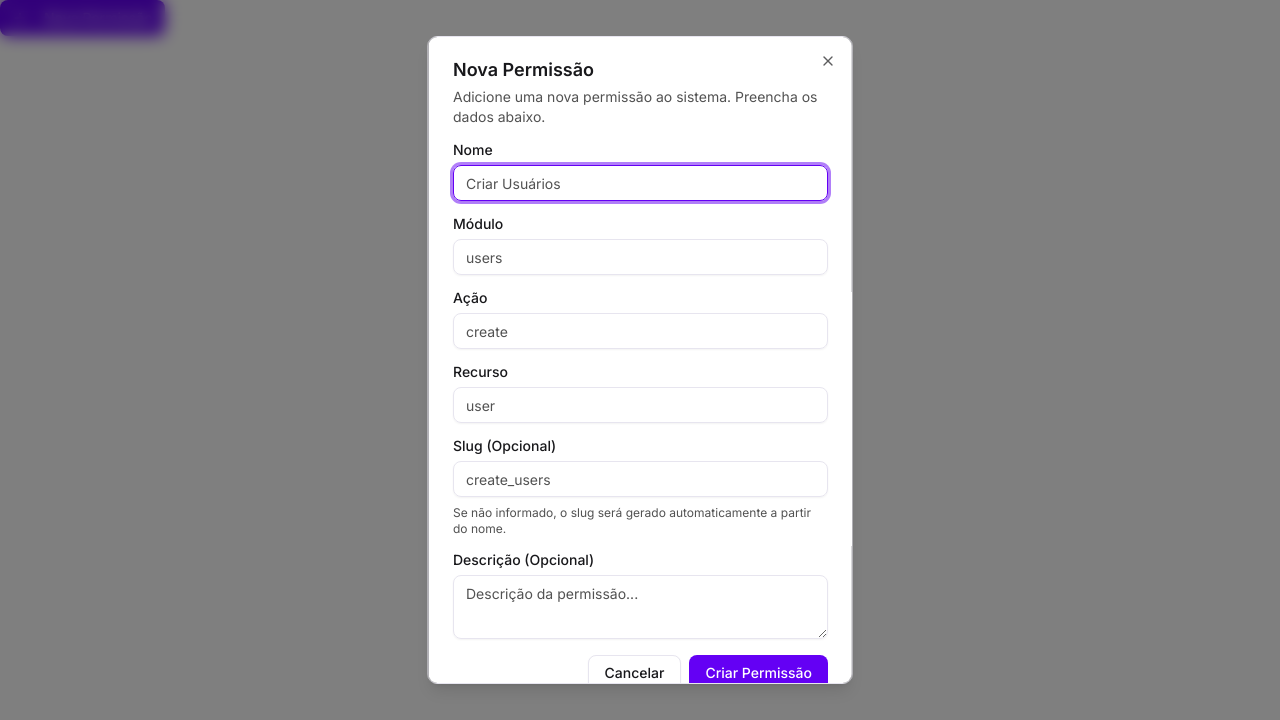
it: PermissionFormDialog › should validate required fields
The image size is (1280, 720).
Click the button "Criar Permissão": (758, 673) [689, 655, 828, 691]
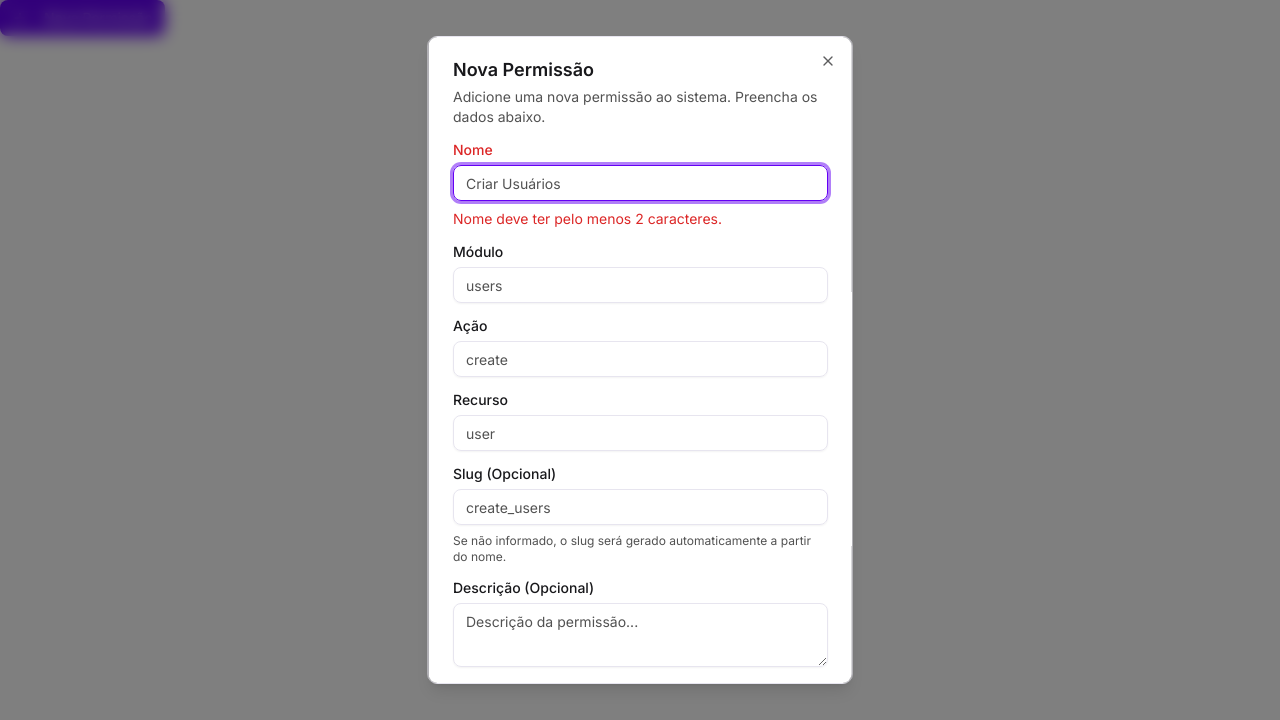
Check: the text "Nome deve ter pelo menos 2 caracteres." is shown, box [452, 210, 722, 227]
